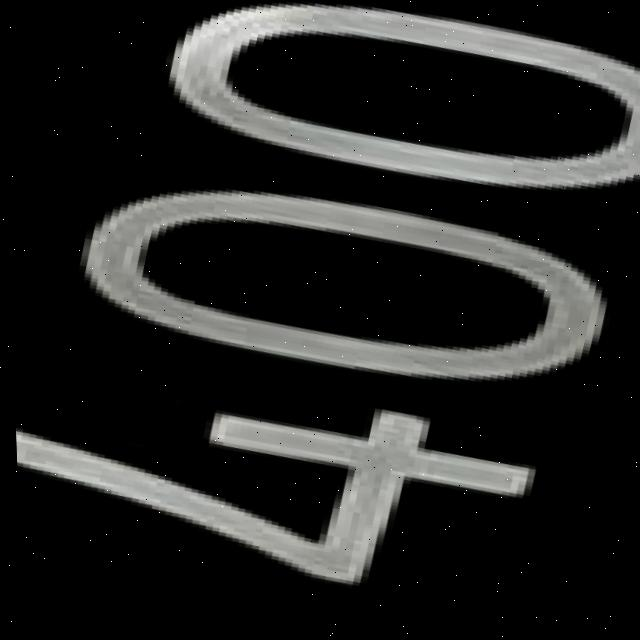character: (48, 112, 638, 452), (12, 294, 576, 640), (124, 0, 640, 261)
